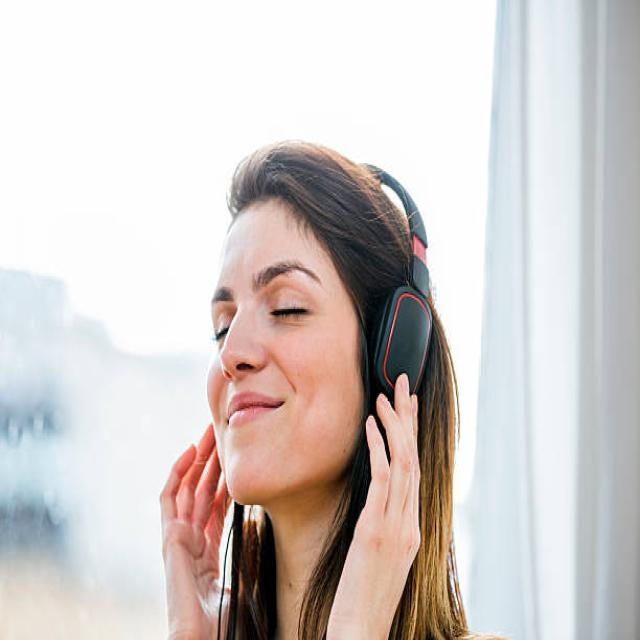Headphone: (359, 160, 433, 399)
